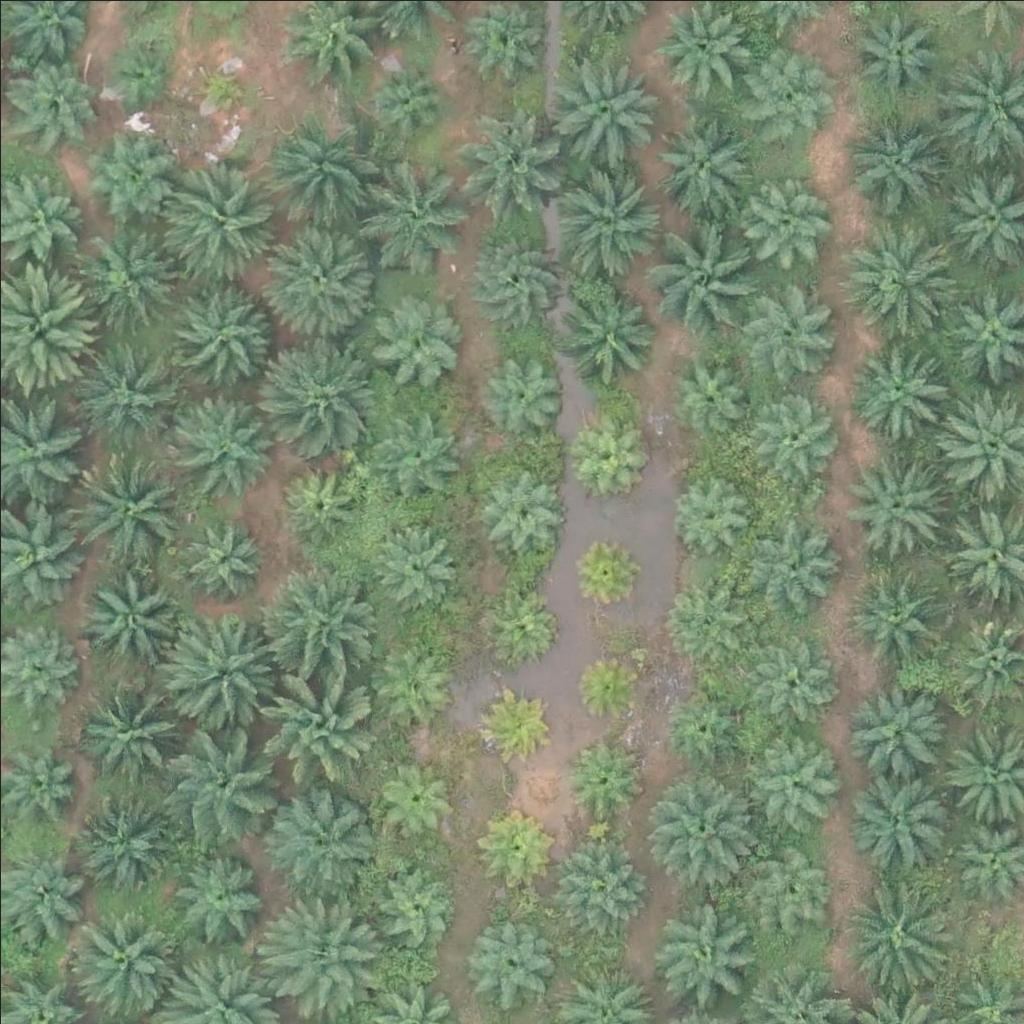Kelapa_Sawit: (553, 54, 666, 168), (76, 668, 189, 782), (75, 450, 188, 563), (71, 338, 184, 451), (164, 283, 277, 396), (267, 222, 380, 335), (844, 325, 957, 438), (843, 216, 956, 329), (159, 723, 272, 836), (260, 565, 373, 678), (646, 897, 759, 1010), (645, 774, 758, 887), (846, 870, 959, 983), (268, 119, 380, 233), (551, 158, 663, 272), (255, 660, 367, 774), (172, 382, 284, 495), (167, 165, 279, 278), (270, 331, 382, 444), (457, 114, 569, 227), (653, 220, 765, 333), (64, 900, 176, 1013), (165, 618, 277, 731), (268, 787, 380, 900), (268, 902, 380, 1015), (80, 229, 180, 330), (78, 128, 178, 229), (372, 159, 472, 260), (559, 283, 659, 384), (656, 115, 756, 216), (735, 278, 835, 379), (846, 458, 946, 559), (77, 565, 177, 666), (172, 853, 272, 954), (850, 766, 950, 867), (845, 683, 945, 784), (846, 566, 946, 667), (739, 514, 839, 615), (365, 294, 465, 394), (467, 226, 567, 326), (76, 788, 176, 888), (846, 110, 945, 211), (10, 54, 98, 142), (277, 457, 365, 545), (363, 55, 451, 143), (482, 464, 570, 552), (756, 392, 844, 480), (660, 684, 748, 772), (660, 566, 748, 654), (177, 512, 265, 600), (374, 756, 462, 844), (369, 633, 457, 721), (750, 728, 838, 816), (749, 636, 837, 724), (378, 406, 465, 495), (481, 348, 568, 436), (665, 468, 752, 556), (668, 344, 755, 432), (745, 61, 832, 149), (742, 176, 829, 264), (851, 10, 938, 98), (372, 858, 459, 946), (371, 524, 458, 612), (557, 848, 644, 936), (470, 917, 557, 1005), (745, 839, 832, 927), (488, 590, 563, 666), (104, 33, 179, 109), (571, 410, 646, 486), (566, 537, 641, 613), (473, 686, 548, 762), (563, 745, 638, 820), (571, 648, 646, 723), (473, 809, 548, 884), (191, 58, 253, 121)
